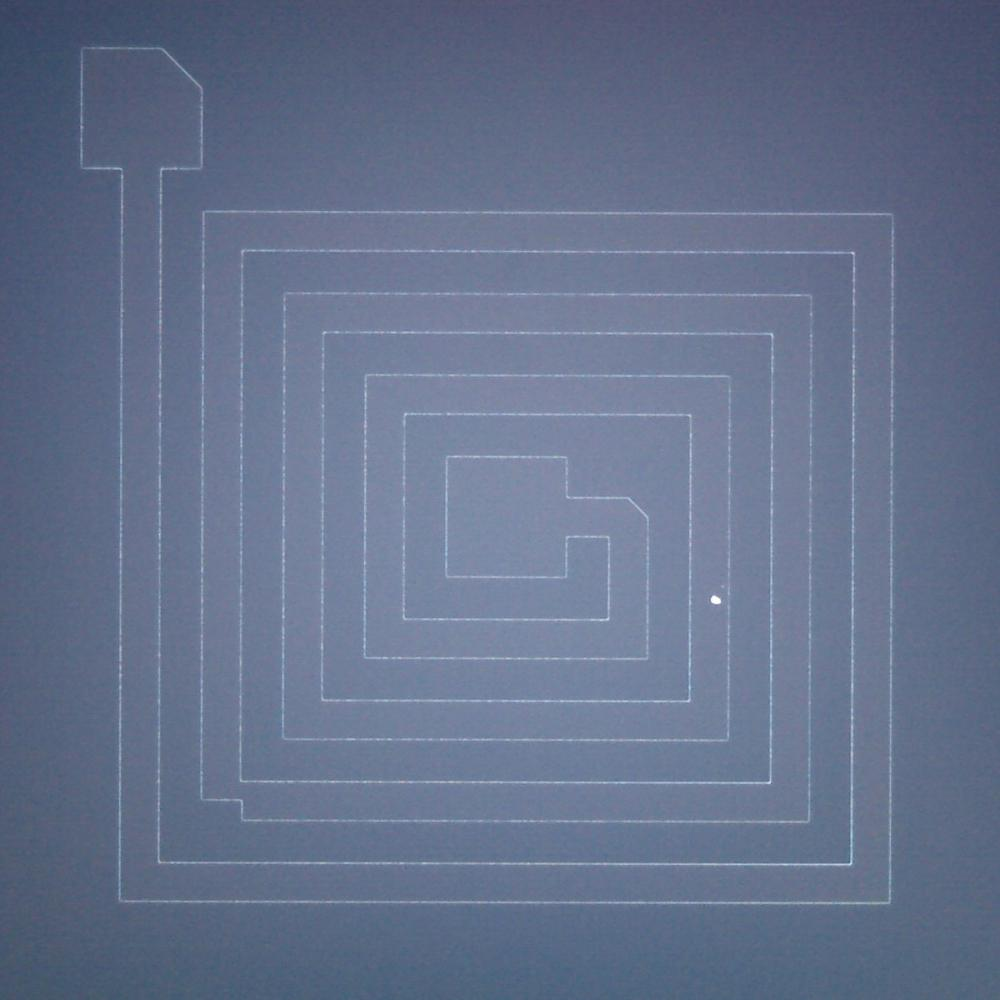dot: (710, 594, 722, 605)
